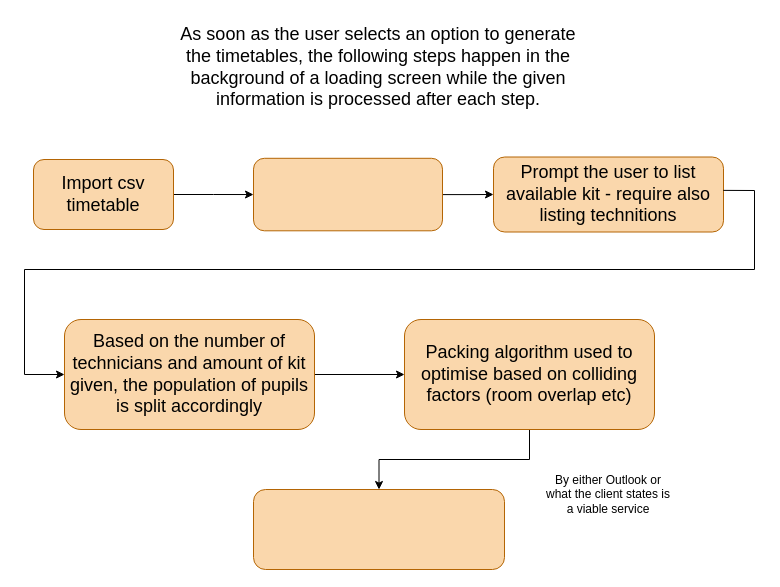
Some shapes in this 780 by 587 pixel diagram are drawn without their labels. Here are the shapes that lost their labels. From the top down, the box of each, then its label:
(252, 157, 442, 231): Prompt the user for the different rooms they would like to use
(252, 488, 504, 570): Distribute the complete set of timetables to the relevent individuals
